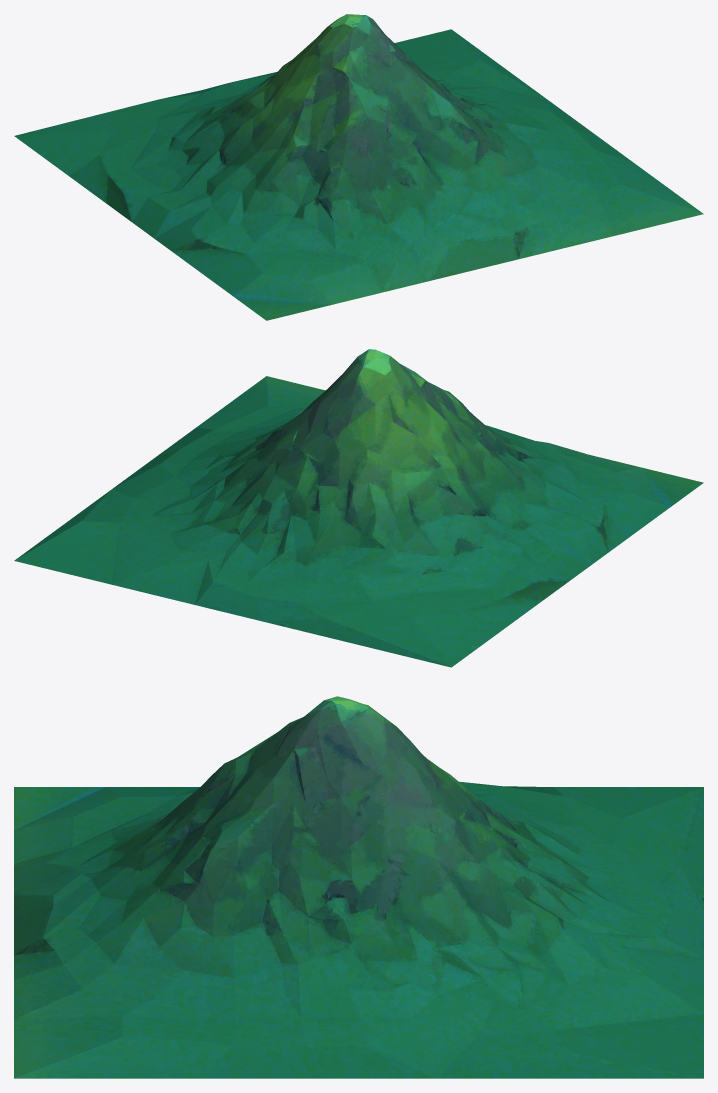
File: mountain_wide.fbx
3 views of the same model, one above another, from view 1: azimuth 30°, elevation 25°; view 2: azimuth 150°, elevation 25°; view 3: azimuth 270°, elevation 25° (orthographic). The views are drawn at different scales.
Parts seen in each view (by area): view 1: mountain_wide; view 2: mountain_wide; view 3: mountain_wide.
Part boxes in pixels (box(x1,y1,x2,y2)): mountain_wide: box(14, 14, 703, 320); mountain_wide: box(14, 349, 703, 667); mountain_wide: box(14, 696, 703, 1078).
Size of the model in its own units: 10 by 3.64 by 10.
